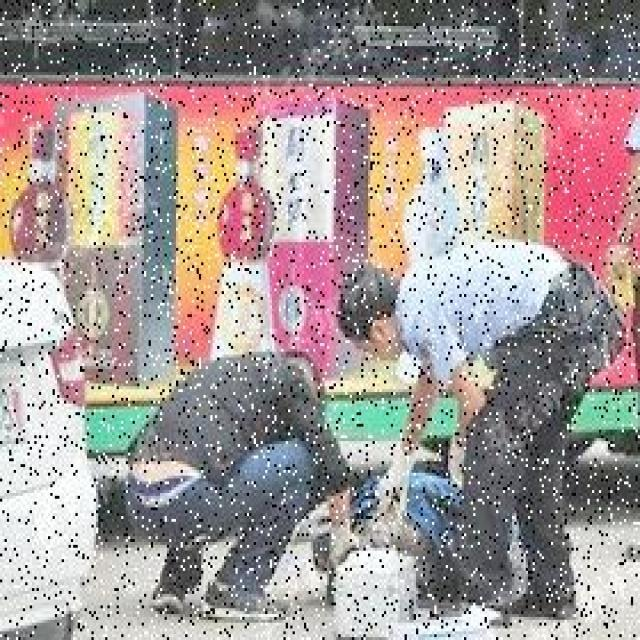fall: (311, 473, 462, 585)
